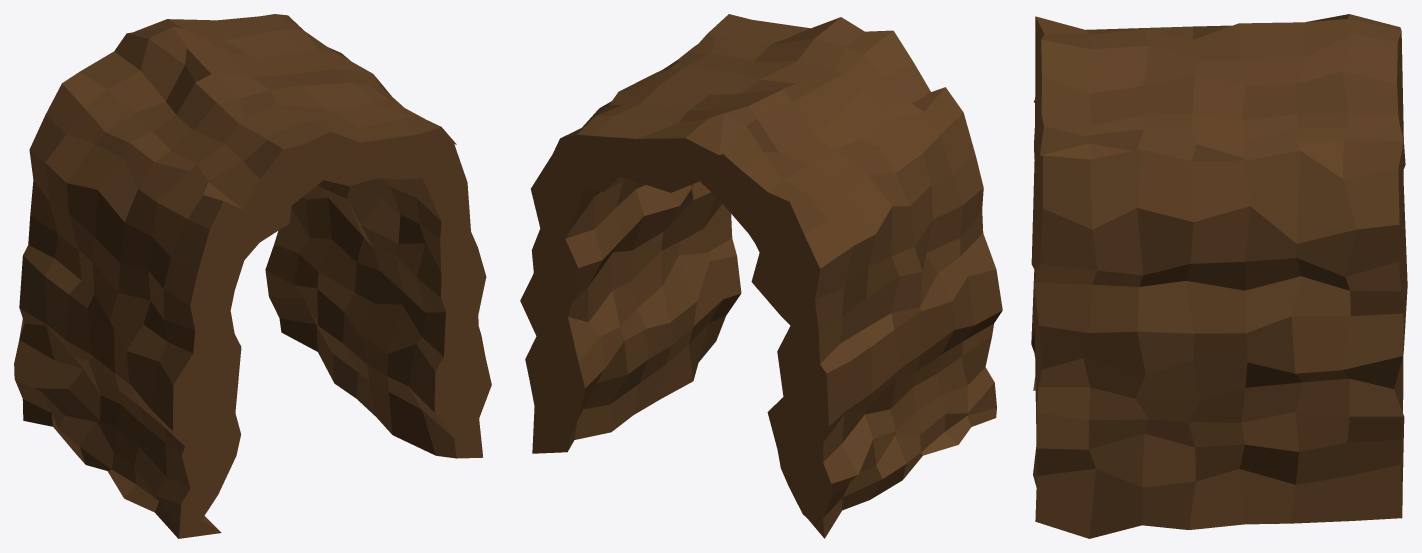
File: Gate_One.fbx
3 renders of one model, left to right at view 1: azimuth 30°, elevation 25°; view 2: azimuth 150°, elevation 25°; view 3: azimuth 270°, elevation 25°, orthographic. The views are drawn at different scales.
Parts seen in each view (by area): view 1: Plane; view 2: Plane; view 3: Plane.
Part boxes in pixels (<box>): Plane: <box>14,14,491,538</box>; Plane: <box>520,14,1002,538</box>; Plane: <box>1031,14,1407,538</box>.
Bounding box in the file's own units: 1307 × 1484 × 1181.
